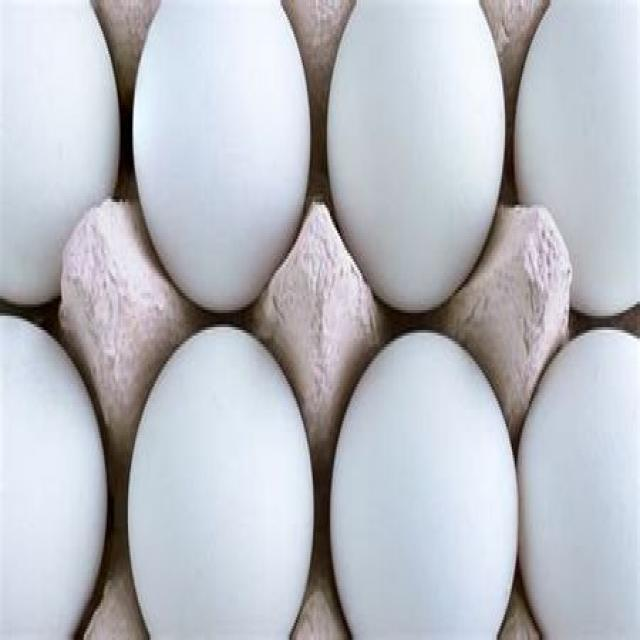Egg: (112, 312, 320, 640), (329, 319, 524, 640)
